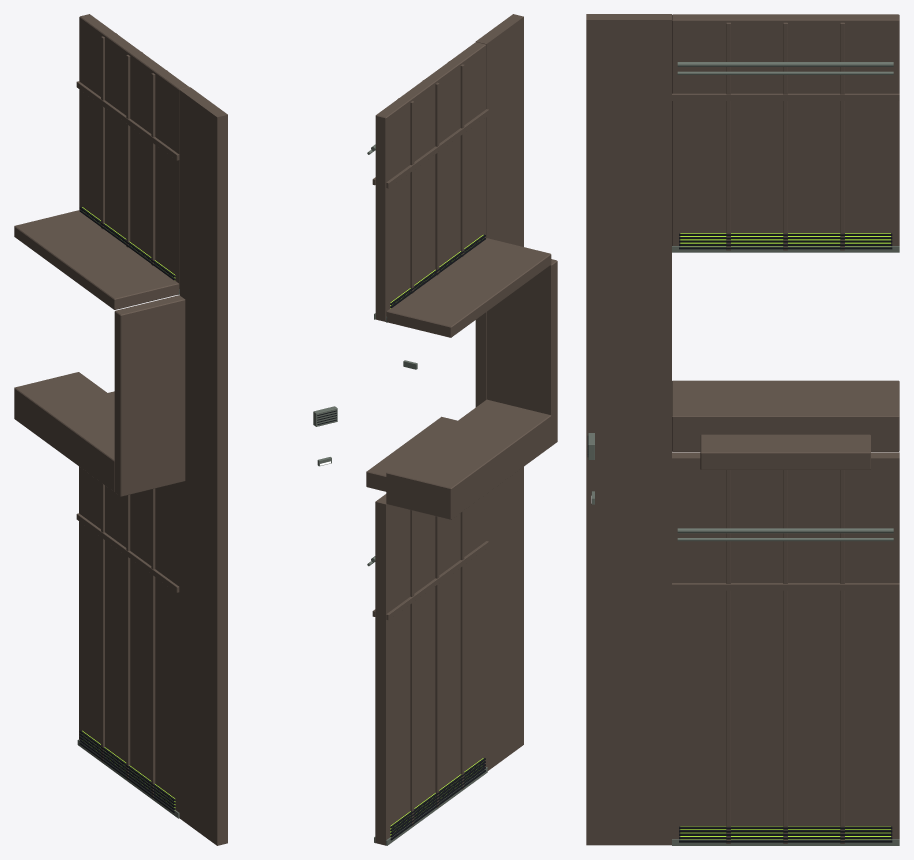
The picture shows the model from 3 angles, left to right: view 1: azimuth 30°, elevation 25°; view 2: azimuth 150°, elevation 25°; view 3: azimuth 270°, elevation 25°; orthographic projection. The views are drawn at different scales.
Visible parts, largest first — view 1: pm2_m4; view 2: pm2_m4; view 3: pm2_m4.
Part boxes in pixels (<box>): pm2_m4: <box>14,14,337,845</box>; pm2_m4: <box>366,14,557,845</box>; pm2_m4: <box>586,14,899,845</box>.
Size of the model in its own units: 8.58 by 32 by 11.
